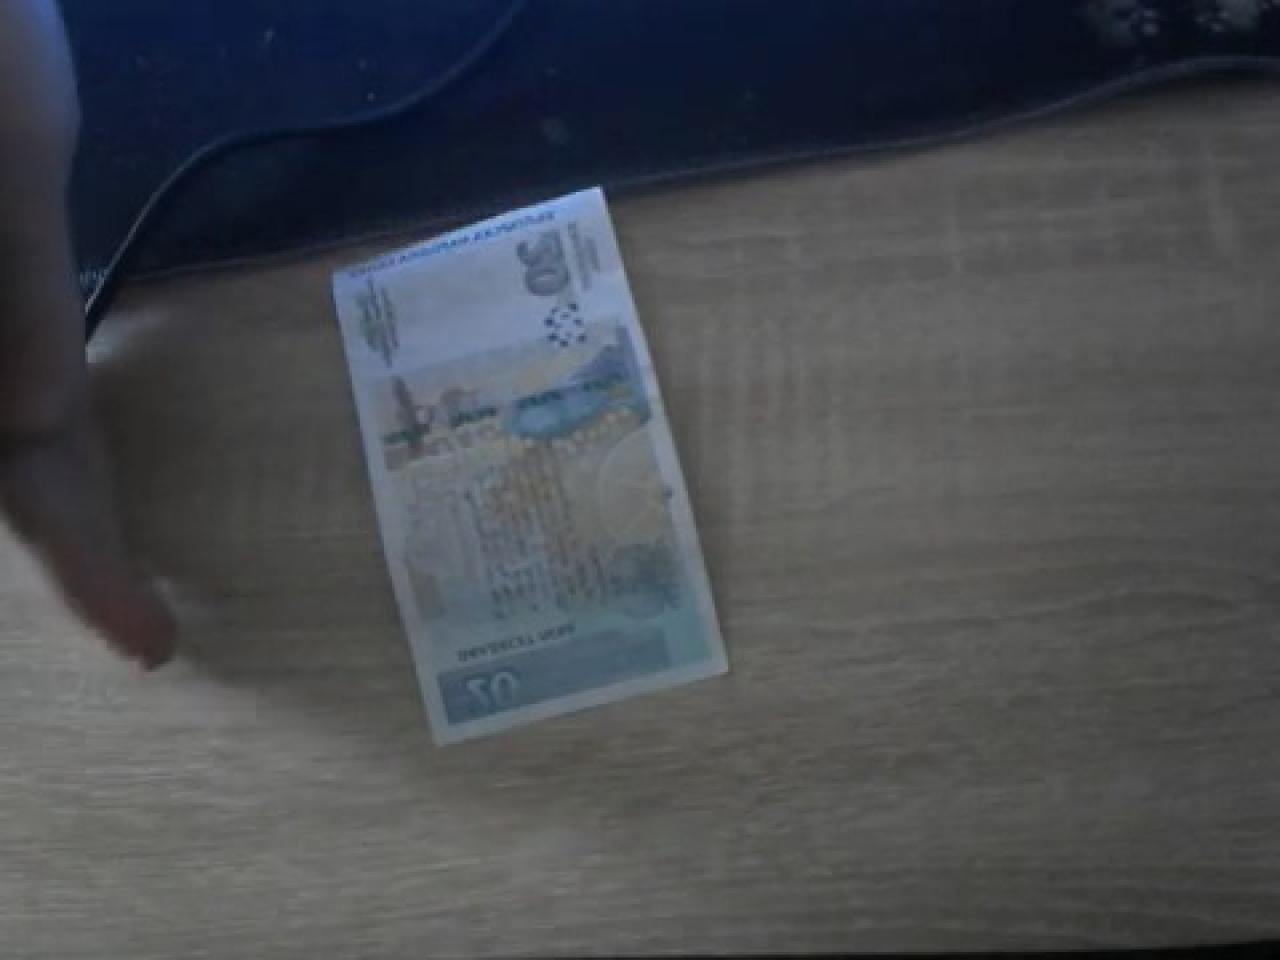20leva: (331, 190, 734, 749)
